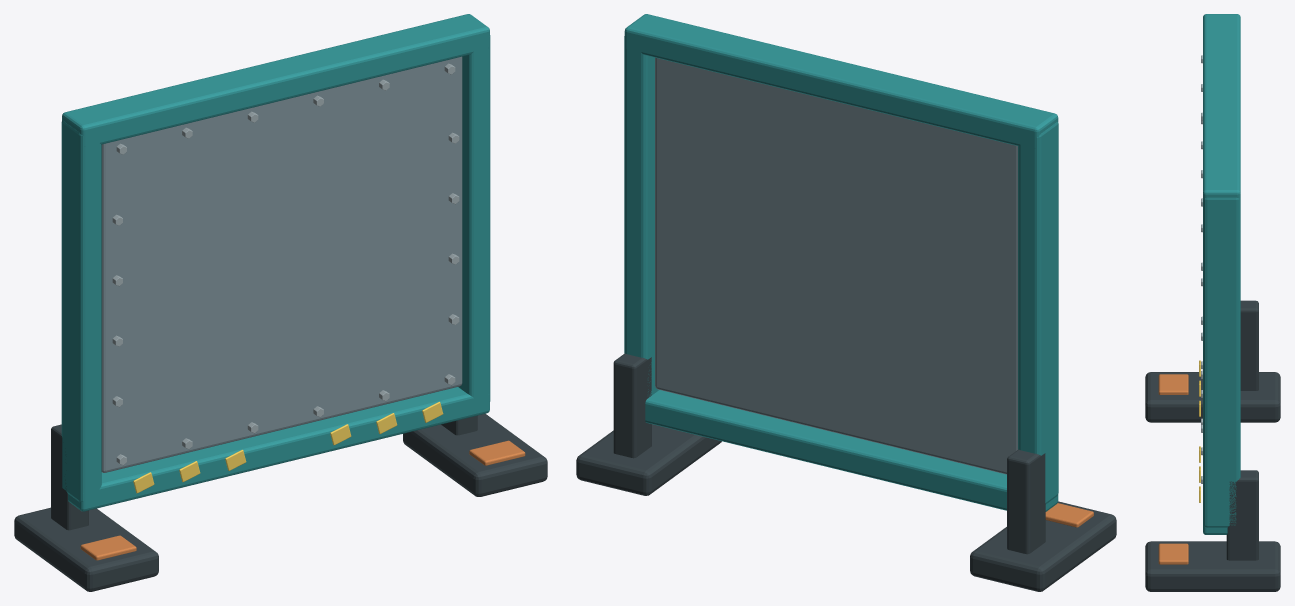
The model's file is TestPanel.fbx.
3 views of the same model, side by side, from view 1: azimuth 30°, elevation 25°; view 2: azimuth 150°, elevation 25°; view 3: azimuth 270°, elevation 25° (orthographic). The views are drawn at different scales.
Visible parts, largest first — view 1: SI_Panel_SteelFace, SI_Panel_FrameCrossbar.001, SI_Panel_FrameUpright, SI_Panel_FrameCrossbar, SI_Panel_FrameUpright.001, SI_Panel_StandFoot, SI_Panel_StandFoot.001, SI_Panel_StandLeg, SI_Panel_FootCopper.001, SI_Panel_FootCopper; view 2: SI_Panel_SteelFace, SI_Panel_FrameCrossbar.001, SI_Panel_FrameUpright, SI_Panel_FrameCrossbar, SI_Panel_FrameUpright.001, SI_Panel_StandFoot, SI_Panel_StandFoot.001, SI_Panel_StandLeg, SI_Panel_StandLeg.001, SI_Panel_FootCopper; view 3: SI_Panel_FrameUpright.001, SI_Panel_FrameCrossbar.001, SI_Panel_StandFoot.001, SI_Panel_StandFoot, SI_Panel_StandLeg.001, SI_Panel_StandLeg, SI_Panel_FootCopper.001, SI_Panel_FootCopper, SI_Panel_FrameCrossbar.
Part boxes in pixels (x1,y1,x2,y2): SI_Panel_SteelFace: (101, 56, 462, 472); SI_Panel_FrameCrossbar.001: (62, 14, 489, 146); SI_Panel_FrameUpright: (61, 120, 101, 501); SI_Panel_FrameCrossbar: (68, 387, 489, 511); SI_Panel_FrameUpright.001: (458, 35, 490, 404); SI_Panel_StandFoot: (14, 507, 158, 591); SI_Panel_StandFoot.001: (403, 413, 547, 496); SI_Panel_StandLeg: (51, 424, 88, 530); SI_Panel_FootCopper.001: (469, 440, 525, 465); SI_Panel_FootCopper: (80, 535, 136, 560); SI_Panel_SteelFace: (655, 57, 1017, 474); SI_Panel_FrameCrossbar.001: (624, 14, 1058, 148); SI_Panel_FrameUpright: (1018, 122, 1058, 504); SI_Panel_FrameCrossbar: (645, 390, 1058, 511); SI_Panel_FrameUpright.001: (624, 36, 658, 397); SI_Panel_StandFoot: (970, 501, 1116, 591); SI_Panel_StandFoot.001: (576, 424, 721, 495); SI_Panel_StandLeg: (1007, 449, 1045, 554); SI_Panel_StandLeg.001: (613, 353, 651, 458); SI_Panel_FootCopper: (1045, 503, 1093, 527); SI_Panel_FrameUpright.001: (1203, 197, 1240, 527); SI_Panel_FrameCrossbar.001: (1203, 14, 1240, 207); SI_Panel_StandFoot.001: (1145, 541, 1280, 591); SI_Panel_StandFoot: (1145, 372, 1280, 422); SI_Panel_StandLeg.001: (1226, 470, 1258, 560); SI_Panel_StandLeg: (1240, 300, 1258, 390); SI_Panel_FootCopper.001: (1158, 543, 1188, 564); SI_Panel_FootCopper: (1158, 374, 1188, 394); SI_Panel_FrameCrossbar: (1203, 518, 1227, 534).
Bounding box in the file's own units: 3.52 × 3.18 × 1.
